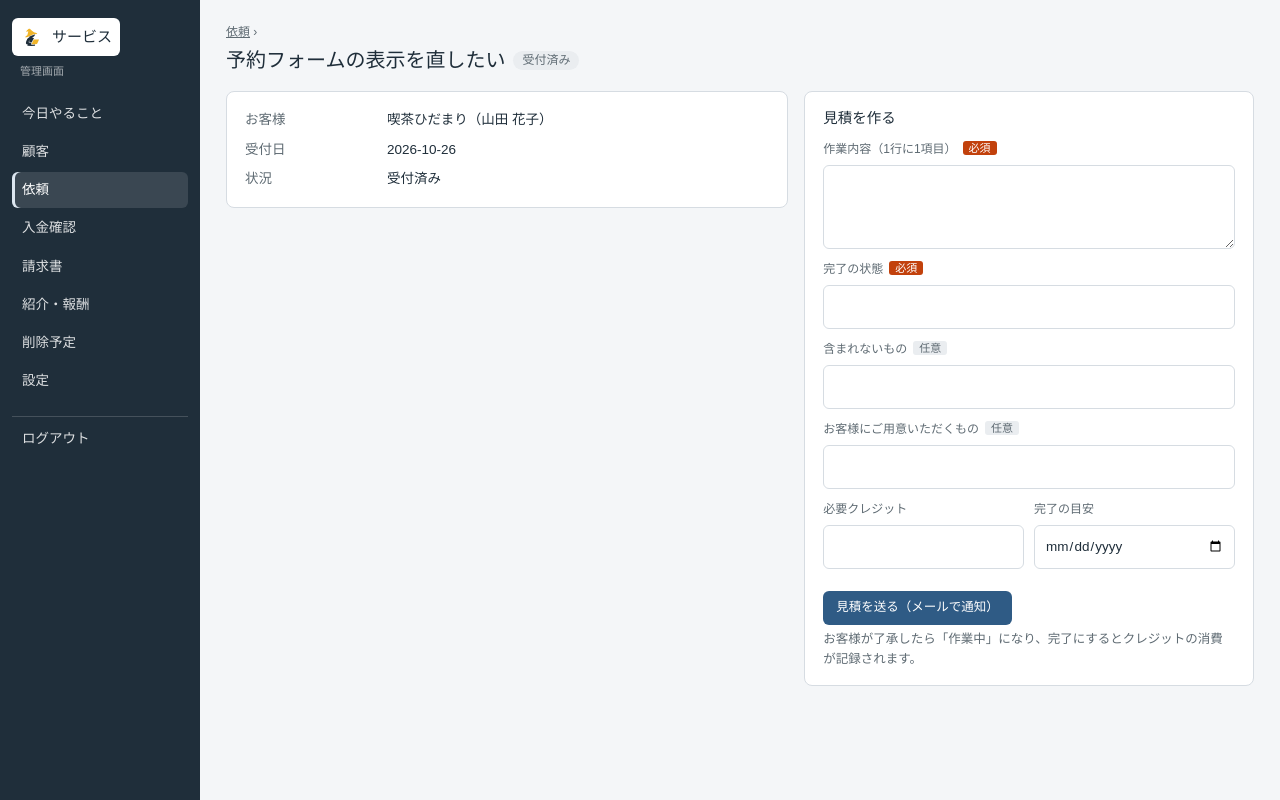
it: request and estimate routes › does not offer a second send when a successful estimate cannot be refreshed
Type "1" into the number field labelled "必要クレジット".
click(924, 547); type("1")  # box x1=823 y1=525 x2=1024 y2=569
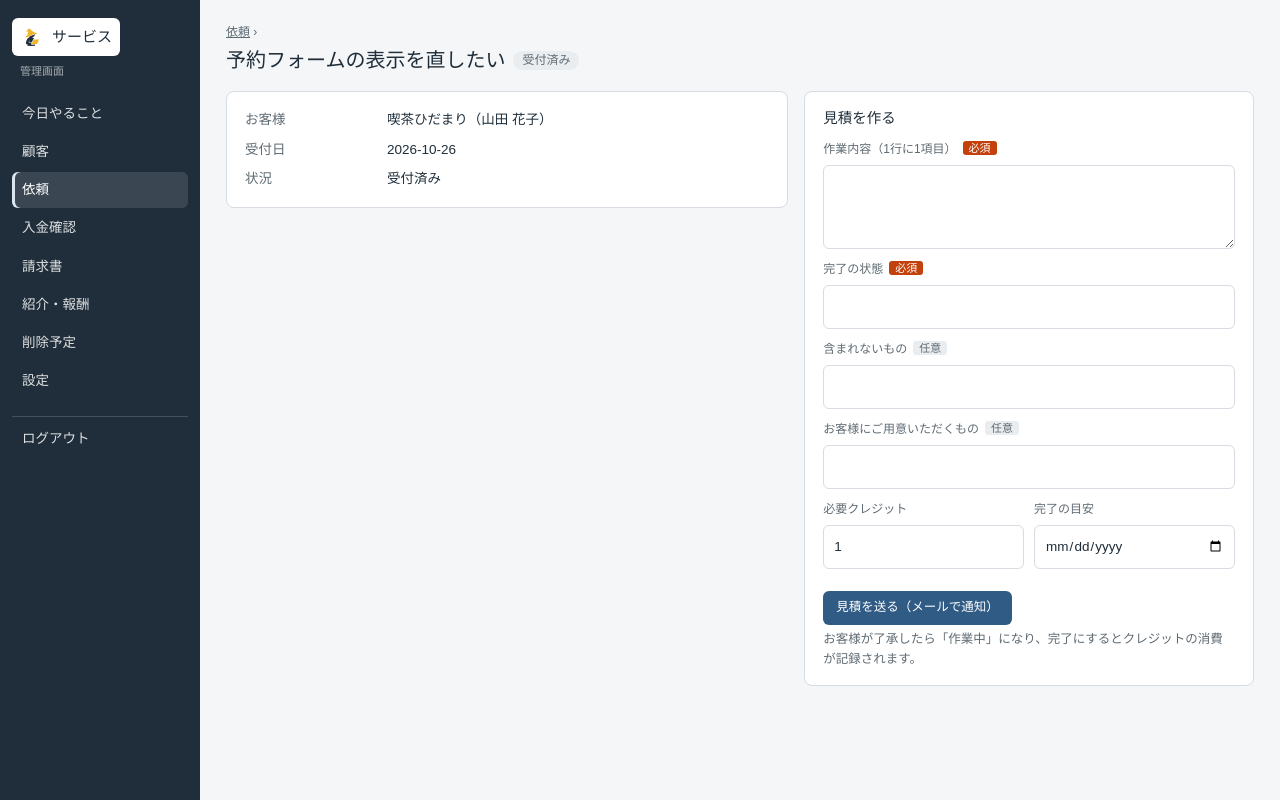
Type "2026-10-30" into the date field labelled "完了の目安".
click(1135, 547); type("2026-10-30")  # box x1=1034 y1=525 x2=1235 y2=569
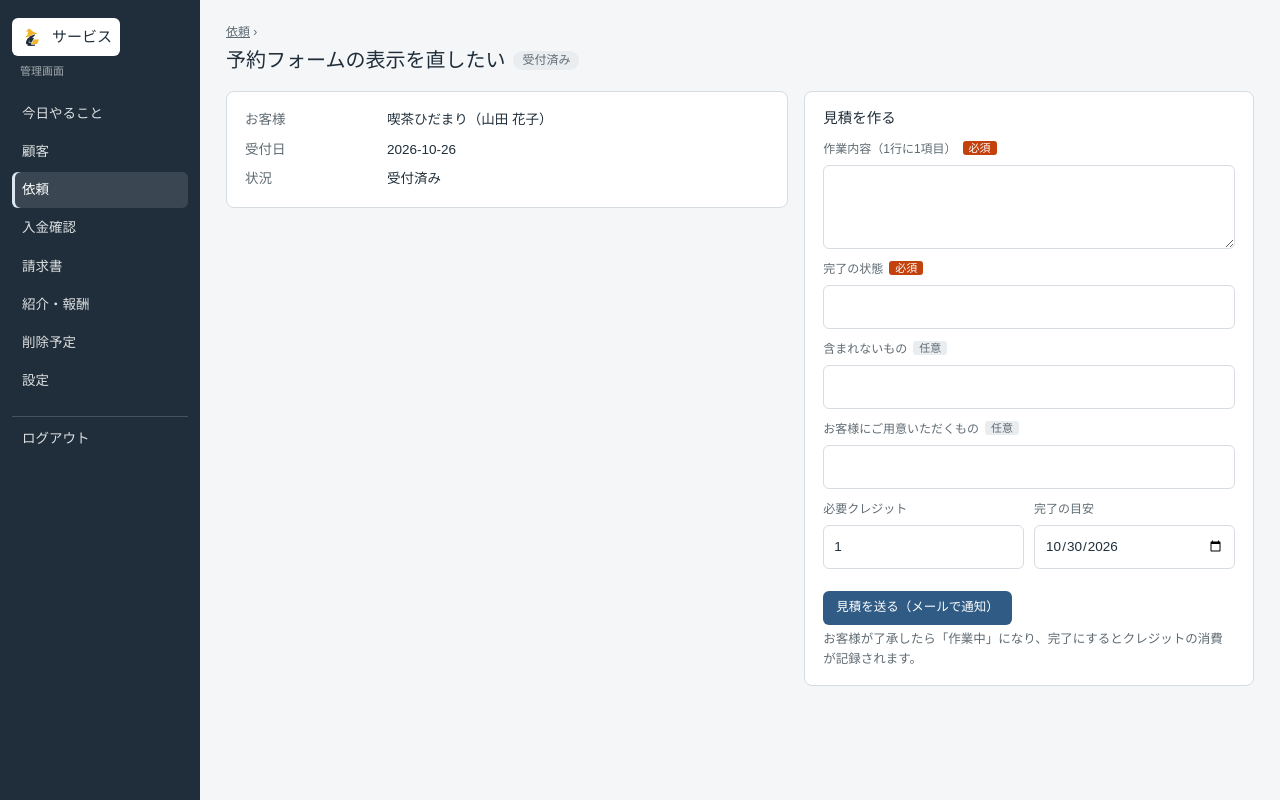
Type "予約フォームの表示を整える" into the text box labelled "作業内容（1行に1項目）必須".
click(1029, 207); type("予約フォームの表示を整える")  # box x1=823 y1=165 x2=1235 y2=249
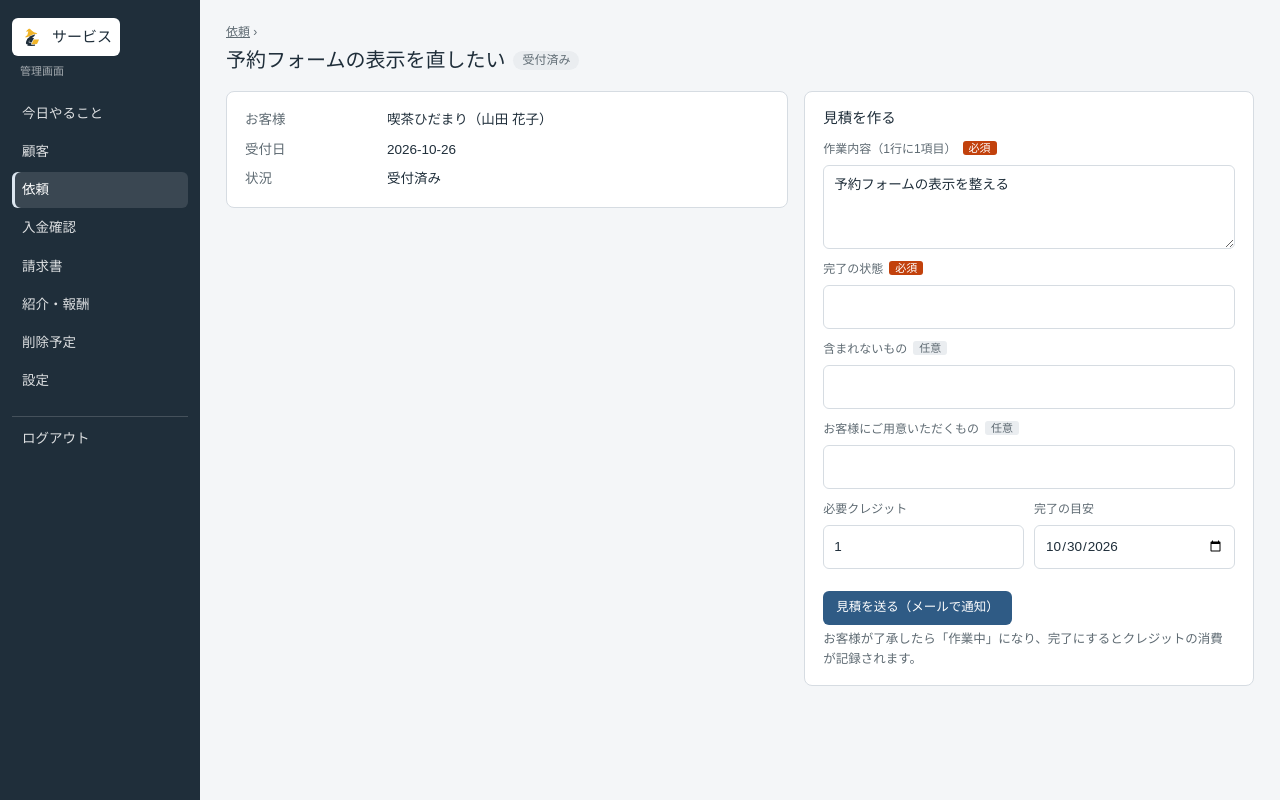
Type "スマートフォンで送信できる" into the 1st field.
click(1029, 307); type("スマートフォンで送信できる")  # box x1=823 y1=285 x2=1235 y2=329
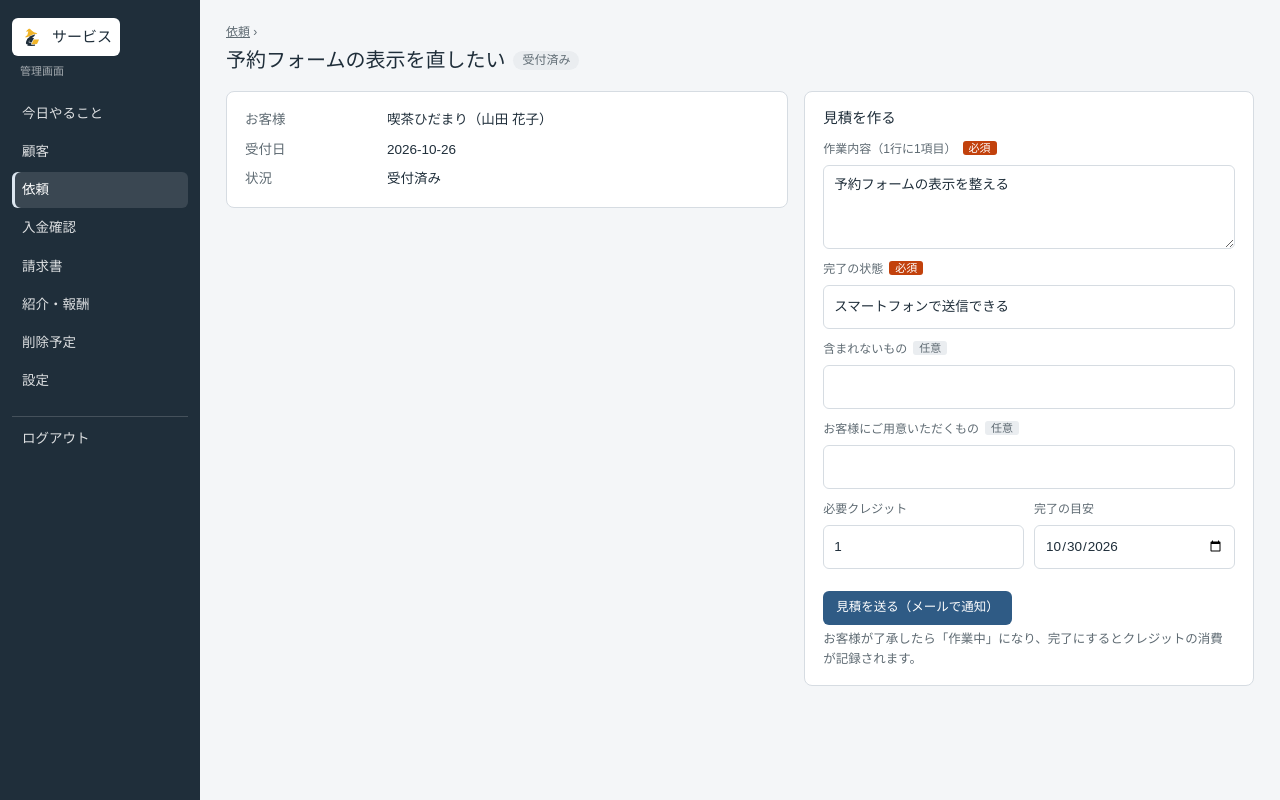
Click the button "見積を送る（メールで通知）".
click(917, 608)  # box x1=823 y1=591 x2=1012 y2=625
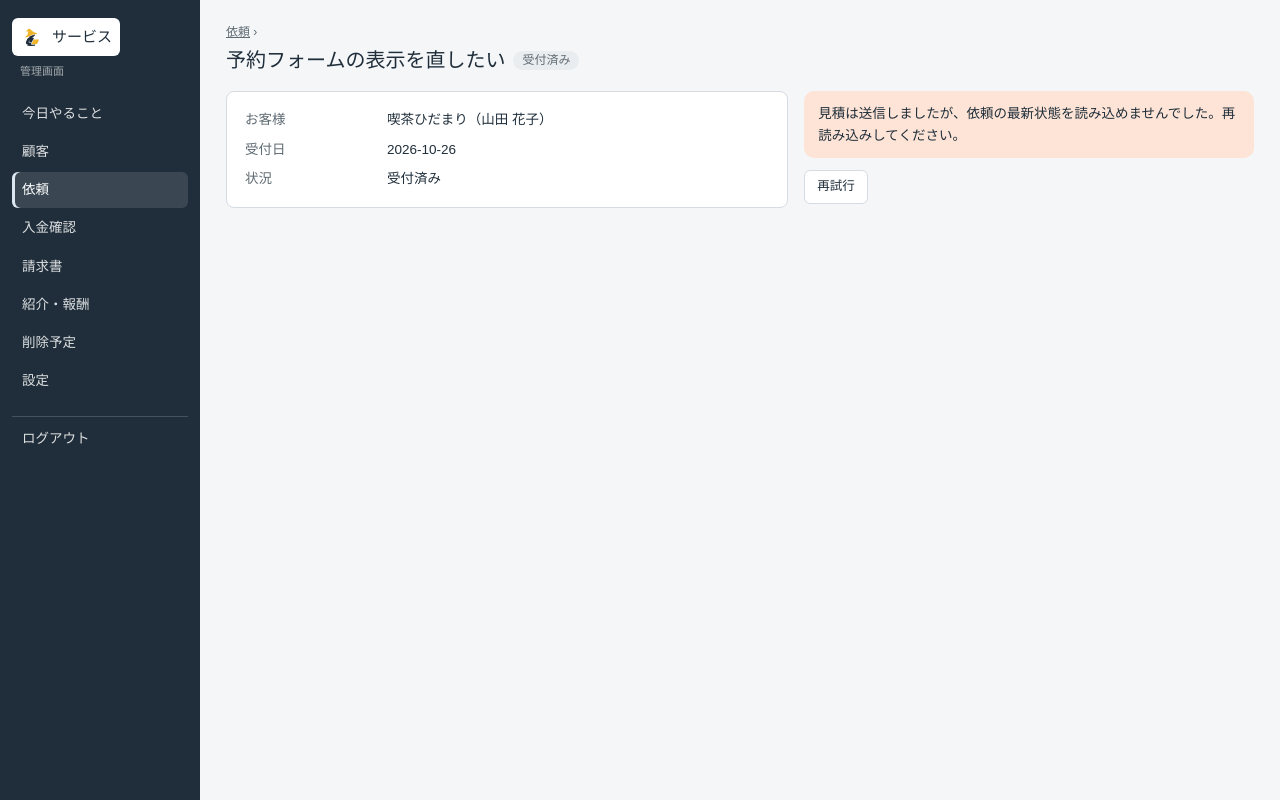
Result: the text "見積は送信しましたが、依頼の最新状態を読み込めませんでした。再読み込みしてください。" is shown at x1=804 y1=91 x2=1254 y2=158
Result: the button "見積を送る（メールで通知）" is gone
Click the button "再試行".
click(836, 187)  # box x1=804 y1=170 x2=868 y2=204
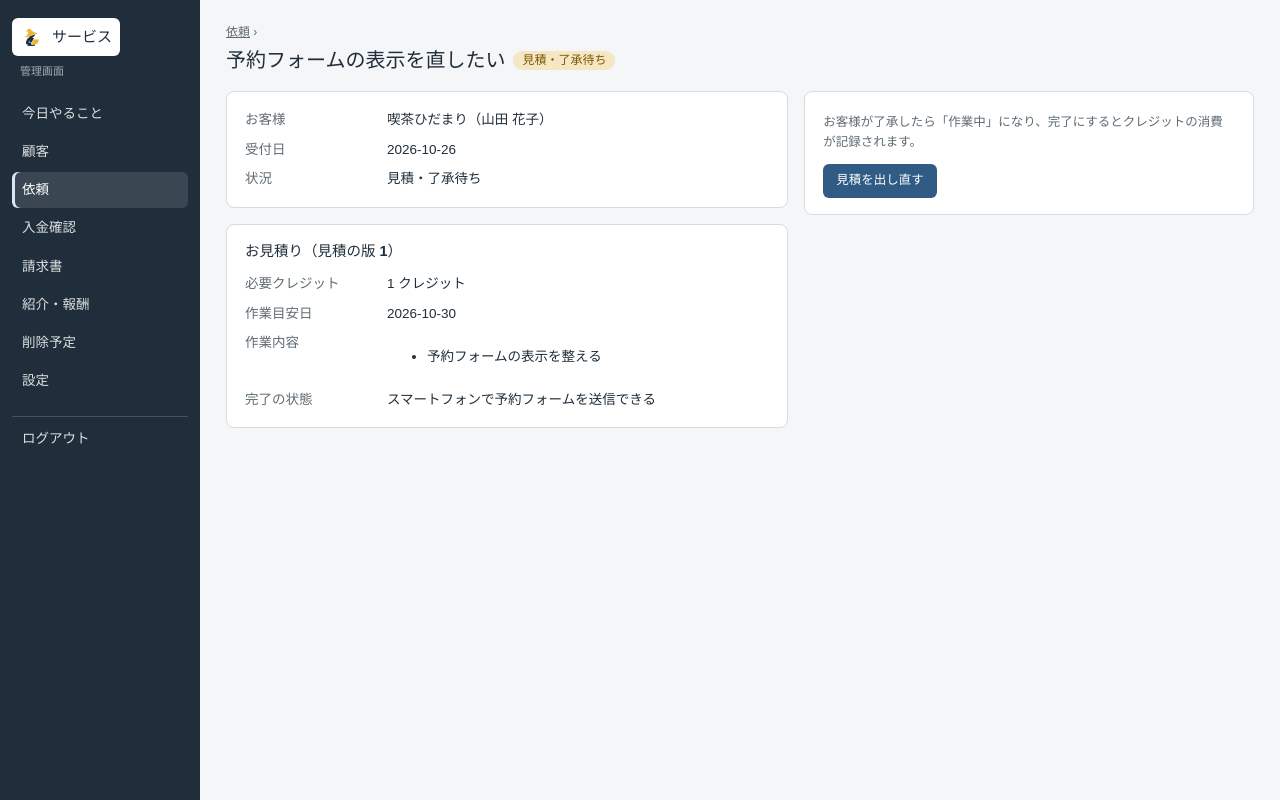
Result: the list item "予約フォームの表示を整える" is shown at x1=427 y1=349 x2=602 y2=364
Result: the button "見積を出し直す" is shown at x1=823 y1=164 x2=937 y2=198
